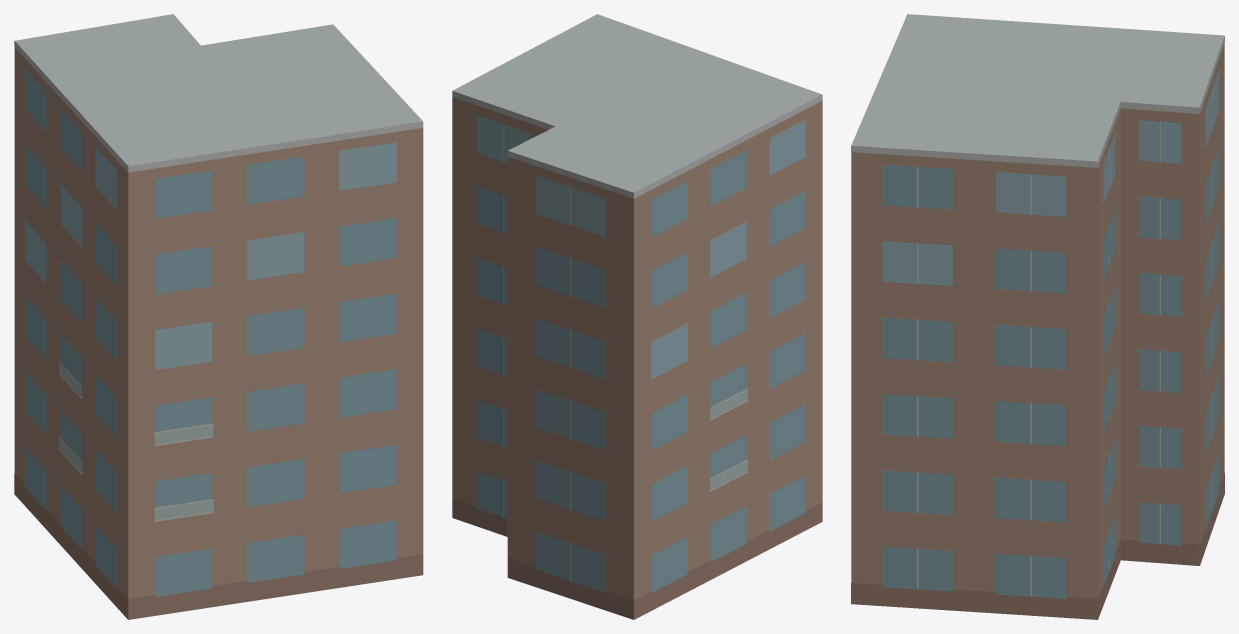
The model's file is survey-upis-32778862.glb.
3 renders of one model, left to right at view 1: azimuth 30°, elevation 25°; view 2: azimuth 150°, elevation 25°; view 3: azimuth 270°, elevation 25°, orthographic. The views are drawn at different scales.
Parts seen in each view (by area): view 1: survey-upis-32778862.tmp; view 2: survey-upis-32778862.tmp; view 3: survey-upis-32778862.tmp.
Boxes of the visible parts, x1,y1,x2,y2 form: survey-upis-32778862.tmp: (14,14,423,619); survey-upis-32778862.tmp: (452,14,822,619); survey-upis-32778862.tmp: (851,14,1224,619).
Bounding box in the file's own units: 12.09 × 17.5 × 12.94.
